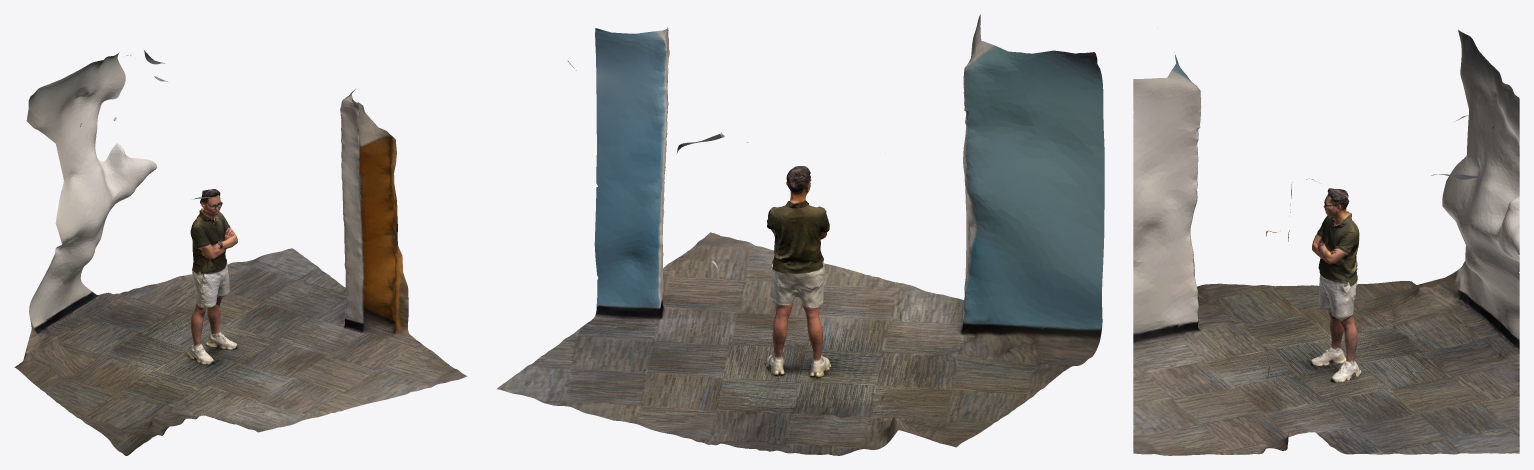
File: avatar.glb
3 views of the same model, side by side, from view 1: azimuth 30°, elevation 25°; view 2: azimuth 150°, elevation 25°; view 3: azimuth 270°, elevation 25° (orthographic). The views are drawn at different scales.
Bounding box in the file's own units: 2.46 × 1.82 × 2.28.
1 material, 1 textured.
